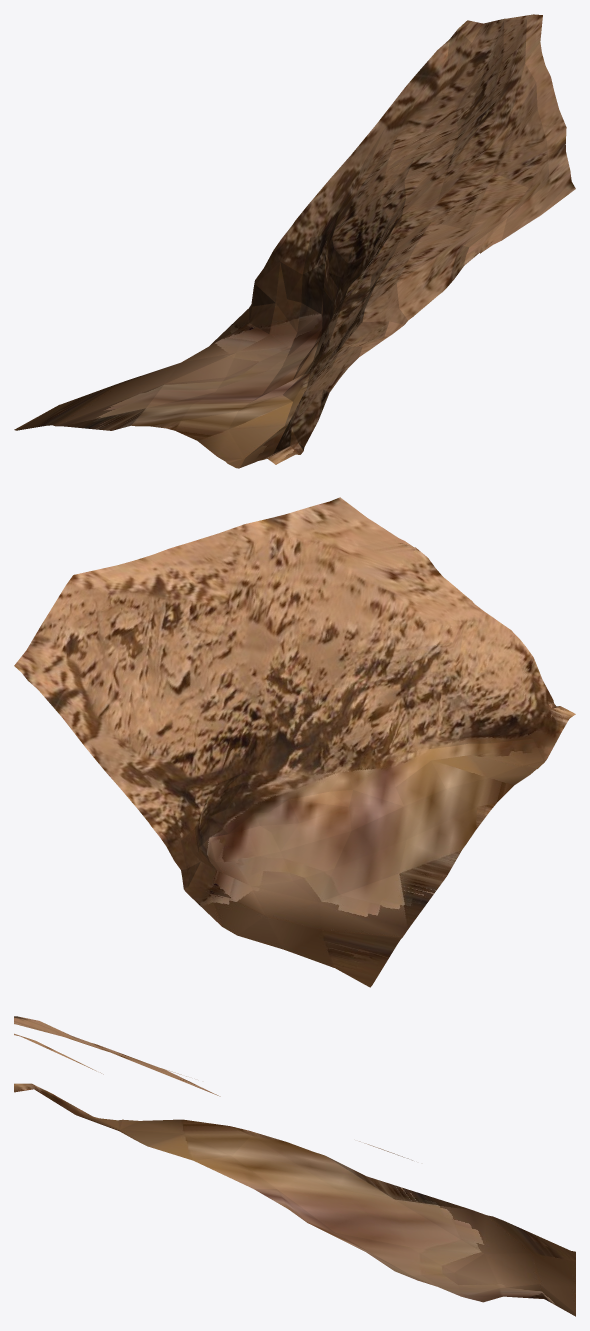
3 renders of one model, top to bottom at view 1: azimuth 30°, elevation 25°; view 2: azimuth 150°, elevation 25°; view 3: azimuth 270°, elevation 25°, orthographic. The views are drawn at different scales.
Bounding box in the file's own units: 1.04 × 0.791 × 1.04.
Materials: 3 (3 with a texture image).
